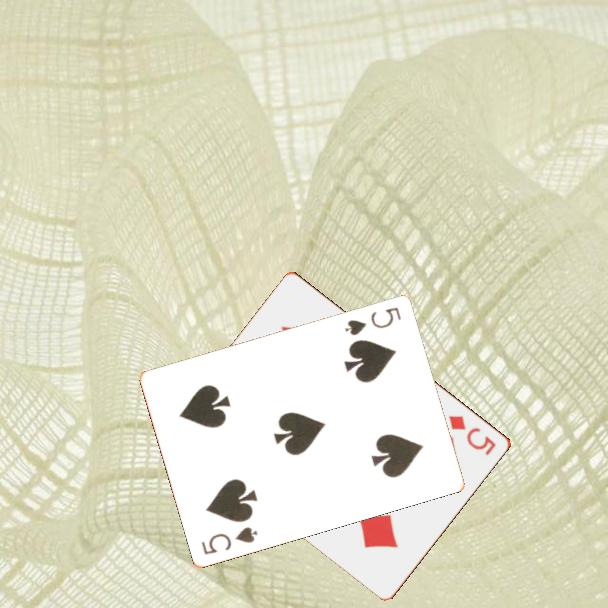d05: (445, 412, 499, 458)
s05: (341, 303, 404, 338), (198, 523, 261, 557)
